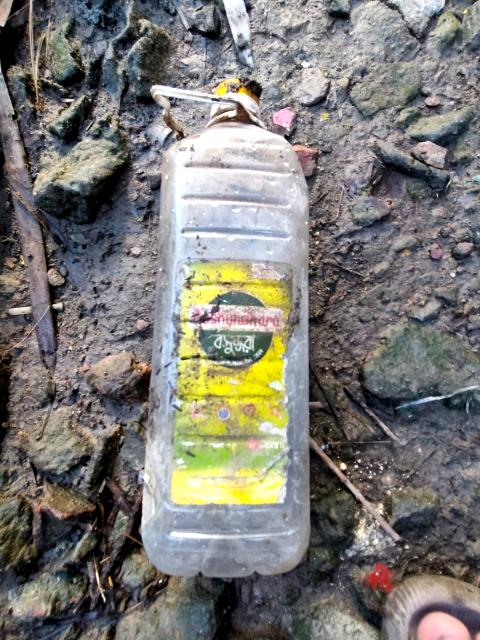bottle: (146, 106, 322, 578)
